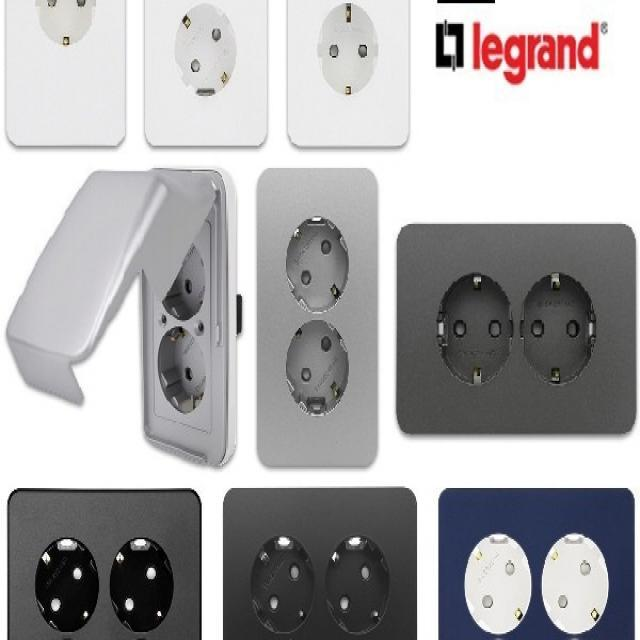typeb: (5, 162, 236, 479), (392, 217, 638, 446), (250, 166, 386, 468), (202, 481, 422, 640), (416, 481, 633, 640), (0, 487, 211, 638), (246, 0, 428, 161), (115, 0, 272, 164), (0, 0, 145, 154)
